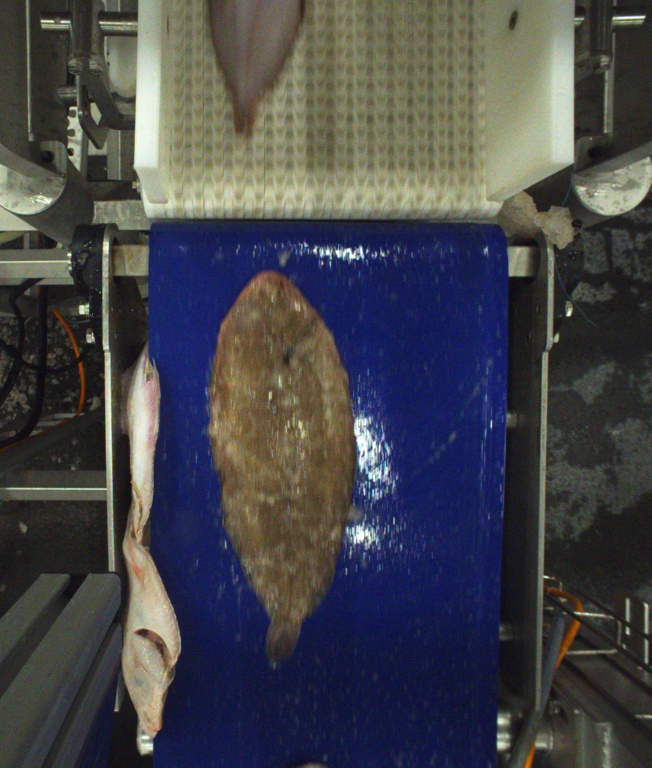SOL: (207, 273, 351, 667)
